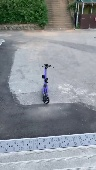beam: (38, 62, 55, 105)
